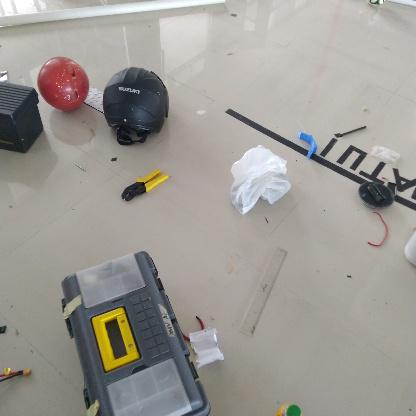red_buoy: (36, 54, 90, 113)
